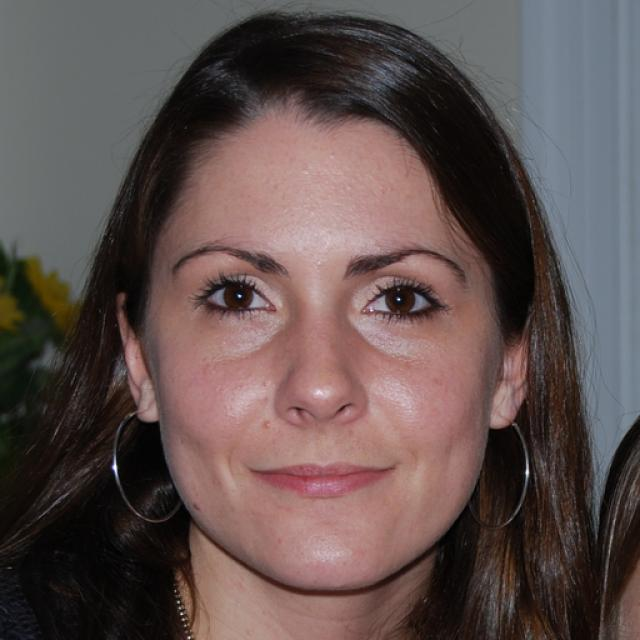Acne: (250, 412, 278, 434), (247, 375, 279, 394), (311, 255, 333, 277)
